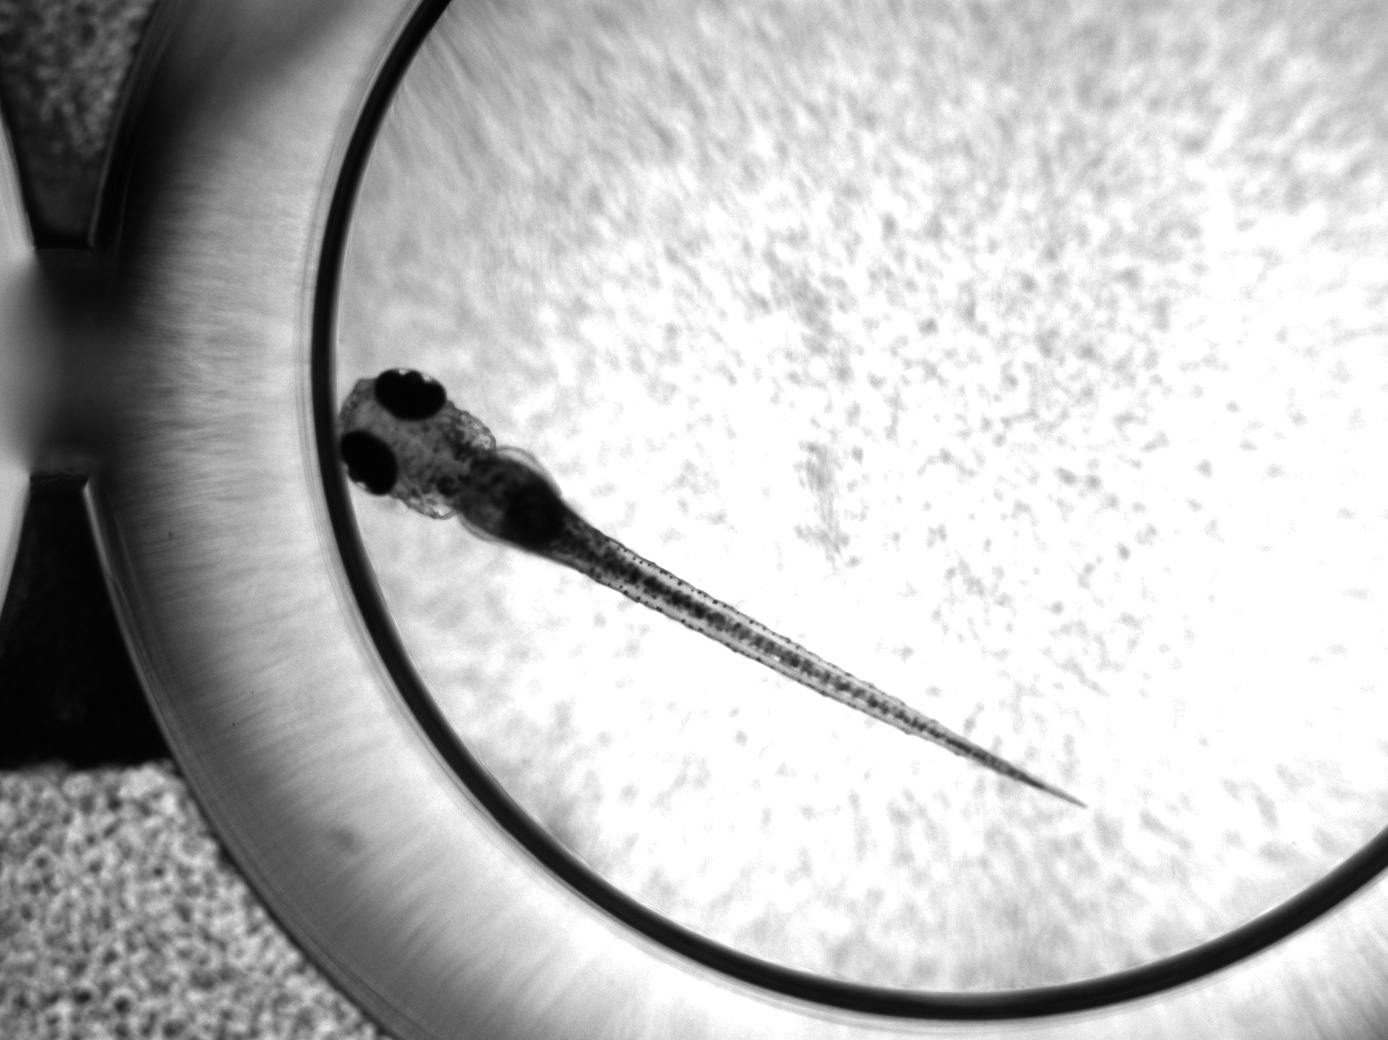embryo: (333, 366, 1092, 813)
eye: (373, 368, 446, 423), (339, 429, 398, 495)
yolksac: (456, 448, 578, 564)
